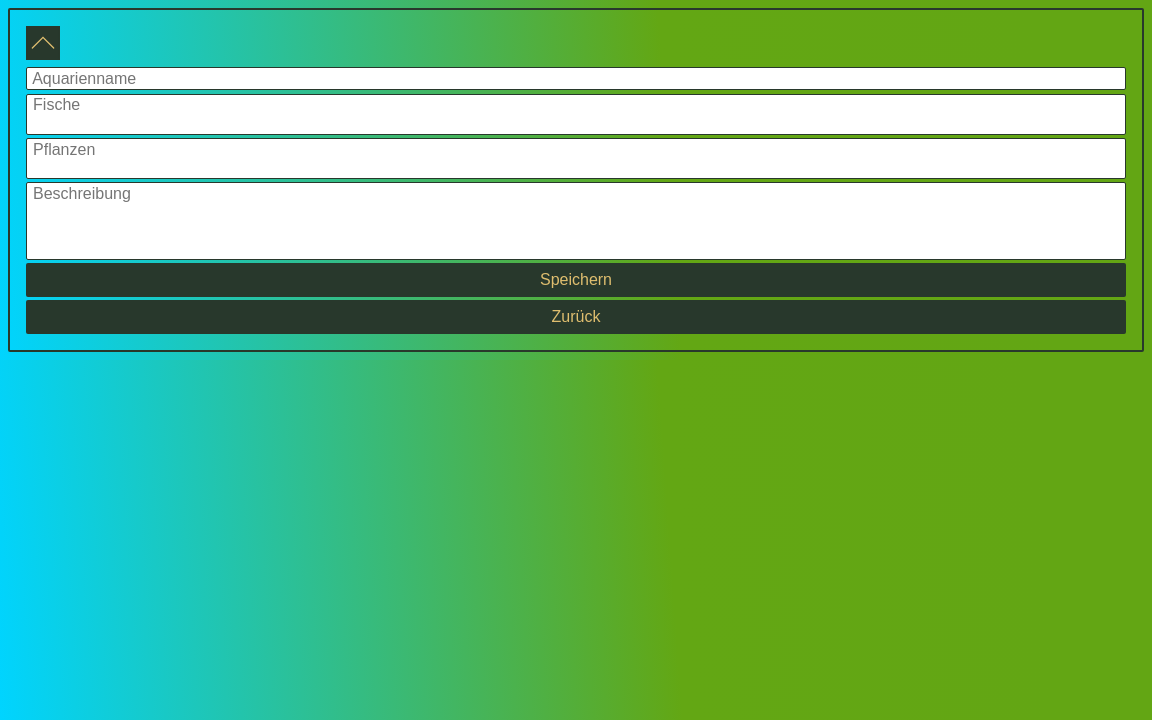
it: Form › does not submit form if one input field is left empty
This screenshot has width=1152, height=720.
In the field named "title": (576, 79) [26, 67, 1126, 90], type "title"
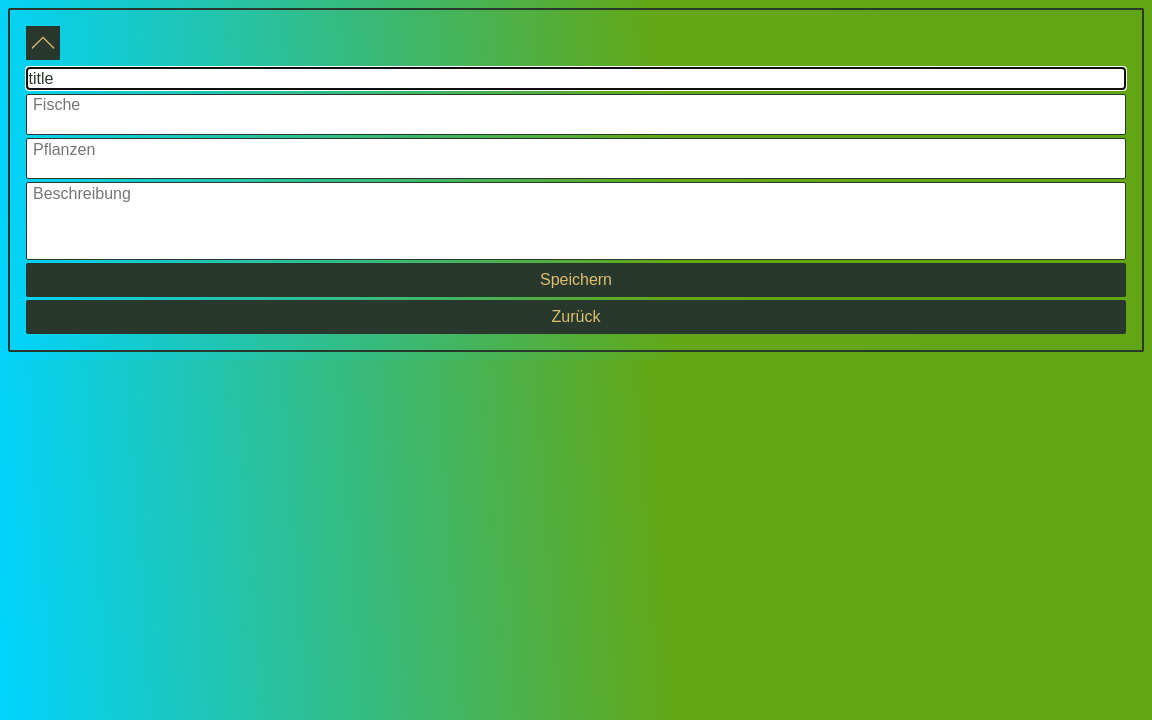
In the text box named "text": (576, 221) [26, 182, 1126, 260], type "text"
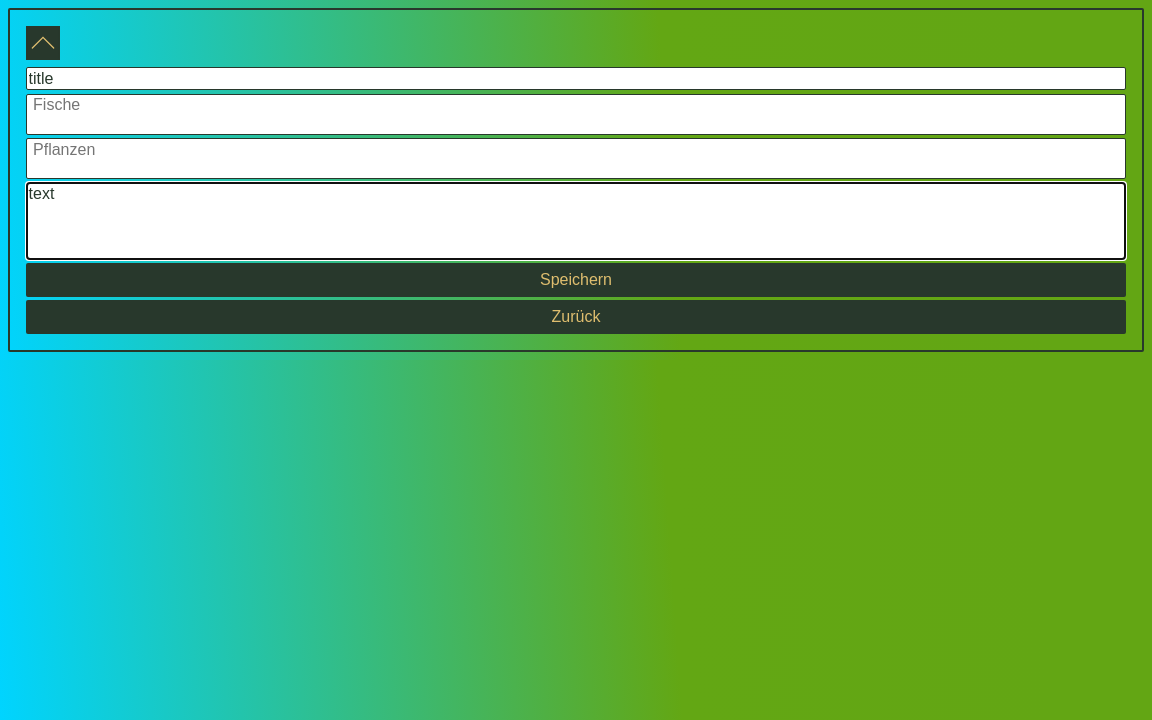
Click the button "Speichern": (576, 280) [26, 263, 1126, 297]
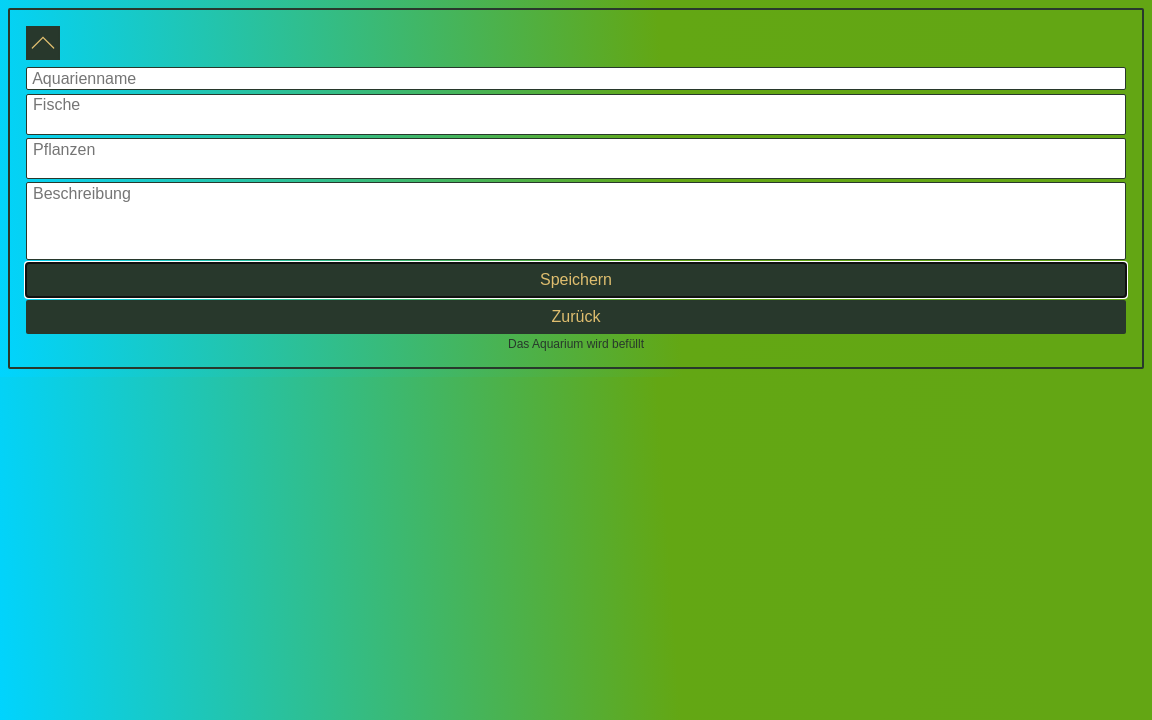
Result: the text "Das Aquarium wird befüllt" is shown at [508, 337, 644, 351]
